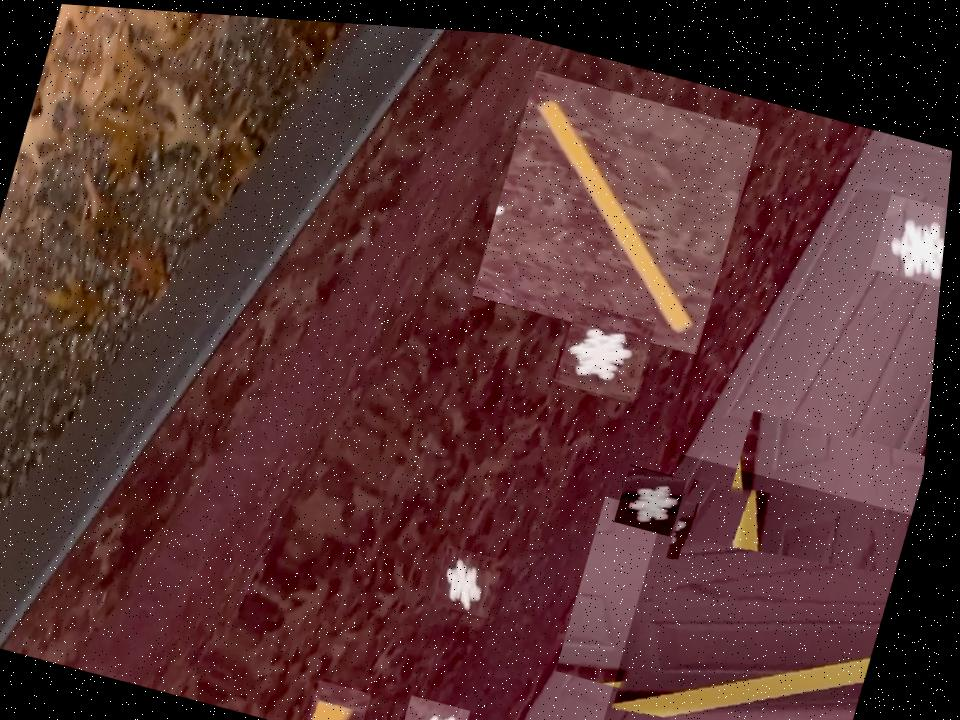dent: (560, 292, 662, 393), (872, 180, 951, 275), (439, 537, 513, 610), (622, 453, 696, 526), (408, 687, 483, 720)
scratch: (608, 440, 923, 720), (474, 59, 765, 346), (317, 674, 384, 720)
